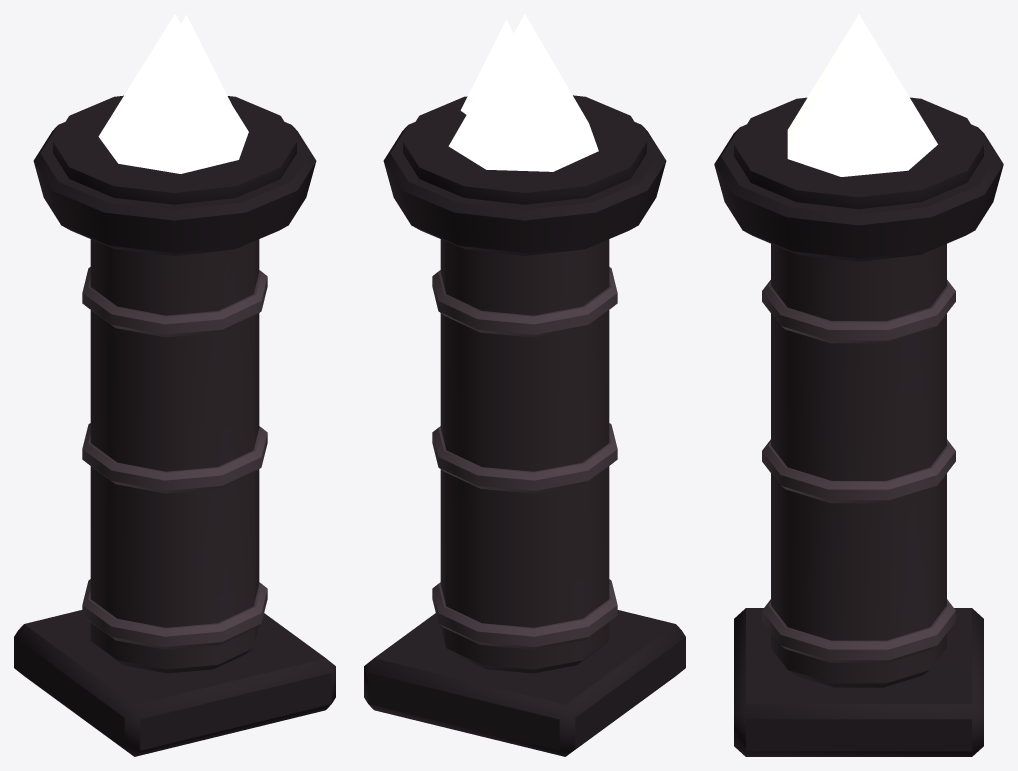
Rendered from mt_pillar_5.glb.
3 views of the same model, side by side, from view 1: azimuth 30°, elevation 25°; view 2: azimuth 150°, elevation 25°; view 3: azimuth 270°, elevation 25° (orthographic). The views are drawn at different scales.
Parts seen in each view (by area): view 1: body, pulse_flame_glow; view 2: body, pulse_flame_glow; view 3: body, pulse_flame_glow.
Boxes of the visible parts, box(x1,y1,x2,y2) form: body: box(14, 95, 335, 756); pulse_flame_glow: box(98, 14, 248, 173); body: box(364, 95, 685, 756); pulse_flame_glow: box(448, 14, 598, 171); body: box(714, 97, 1003, 756); pulse_flame_glow: box(787, 14, 937, 176).
Size of the model in its own units: 1.97 by 5.22 by 1.97.
